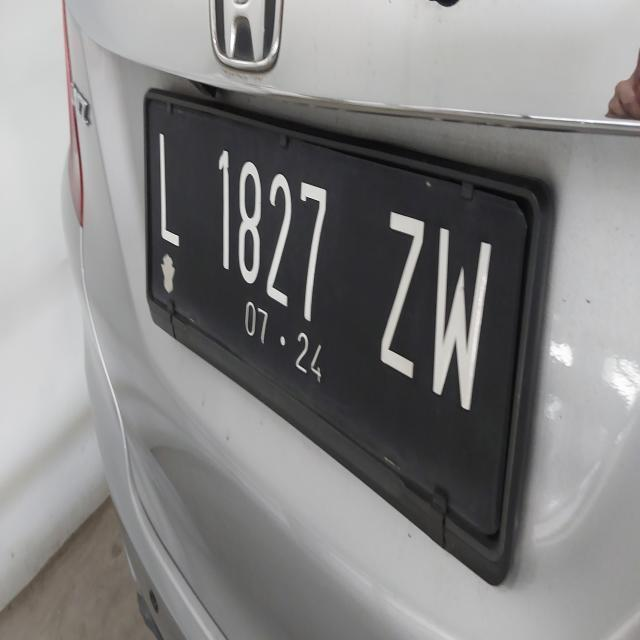1: (211, 143, 241, 282)
2: (266, 154, 294, 326)
7: (296, 172, 334, 328)
8: (241, 144, 265, 294)
L: (150, 118, 192, 259)
W: (434, 217, 497, 424)
Z: (384, 200, 428, 376)
